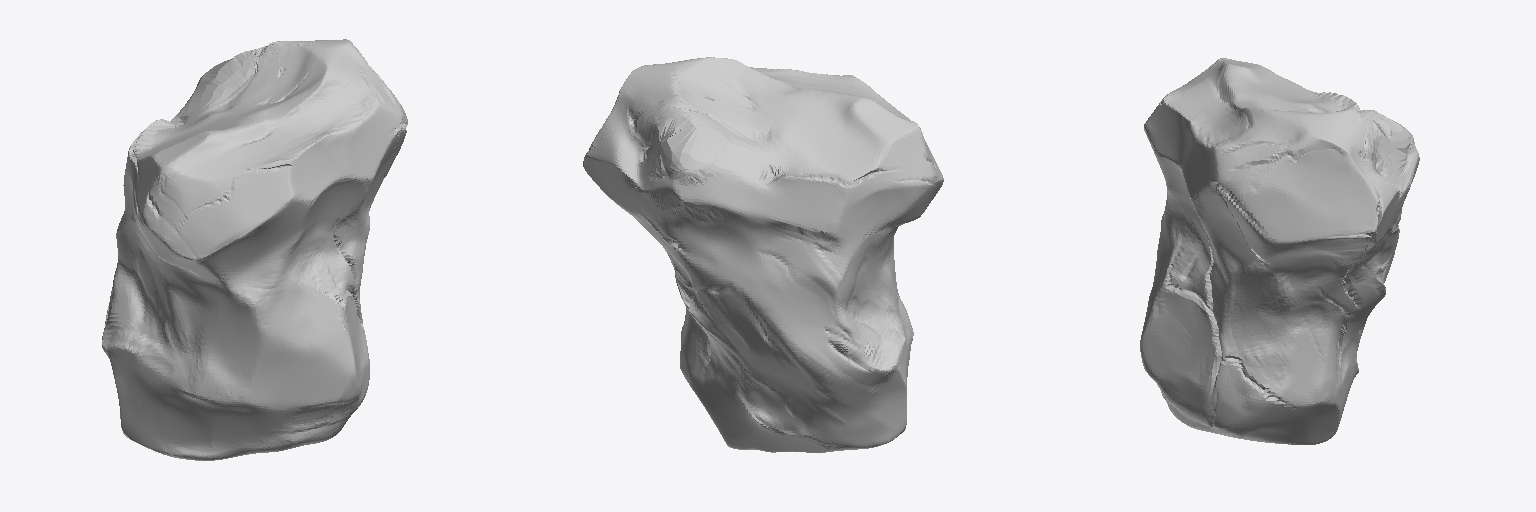
Rendered from Rock2_HighPolyMesh.OBJ.
3 views of the same model, side by side, from view 1: azimuth 30°, elevation 25°; view 2: azimuth 150°, elevation 25°; view 3: azimuth 270°, elevation 25° (orthographic).
Visible parts, largest first — view 1: Group62007, Group62434, Group62556, Group62646, Group62885, Group62133, Group63474, Group63451, Group63285, Group61943, Group63575, Group62344 (+1 smaller); view 2: Group62344, Group62434, Group63451, Group62211, Group63575, Group63491, Group63474, Group63382, Group63120, Group63614, Group63285, Group61943 (+4 smaller); view 3: Group62646, Group62007, Group62211, Group63575, Group62344, Group62434, Group62885, Group62556, Group63382, Group63614.
Boxes of the visible parts, <box> form: Group62007: <box>185,214,369,460</box>; Group62434: <box>124,41,322,260</box>; Group62556: <box>204,69,379,270</box>; Group62646: <box>309,40,407,250</box>; Group62885: <box>225,132,330,267</box>; Group62133: <box>136,334,216,445</box>; Group63474: <box>102,208,162,437</box>; Group63451: <box>102,185,150,339</box>; Group63285: <box>123,386,214,460</box>; Group61943: <box>151,264,206,347</box>; Group63575: <box>197,39,352,108</box>; Group62344: <box>138,81,221,143</box>; Group62344: <box>610,132,827,318</box>; Group62434: <box>652,61,943,220</box>; Group63451: <box>778,192,887,448</box>; Group62211: <box>680,308,792,439</box>; Group63575: <box>595,68,757,185</box>; Group63491: <box>750,214,839,449</box>; Group63474: <box>829,231,907,449</box>; Group63382: <box>678,287,808,412</box>; Group63120: <box>839,172,933,252</box>; Group63614: <box>583,112,628,195</box>; Group63285: <box>720,375,907,452</box>; Group61943: <box>871,237,897,319</box>; Group62646: <box>1186,110,1378,308</box>; Group62007: <box>1140,195,1257,441</box>; Group62211: <box>1220,287,1366,444</box>; Group63575: <box>1313,110,1412,197</box>; Group62344: <box>1299,94,1419,312</box>; Group62434: <box>1188,58,1361,126</box>; Group62885: <box>1146,79,1221,213</box>; Group62556: <box>1144,70,1263,204</box>; Group63382: <box>1335,259,1392,346</box>; Group63614: <box>1358,156,1398,241</box>.
Bounding box in the file's own units: 2.05 × 2.51 × 1.77.